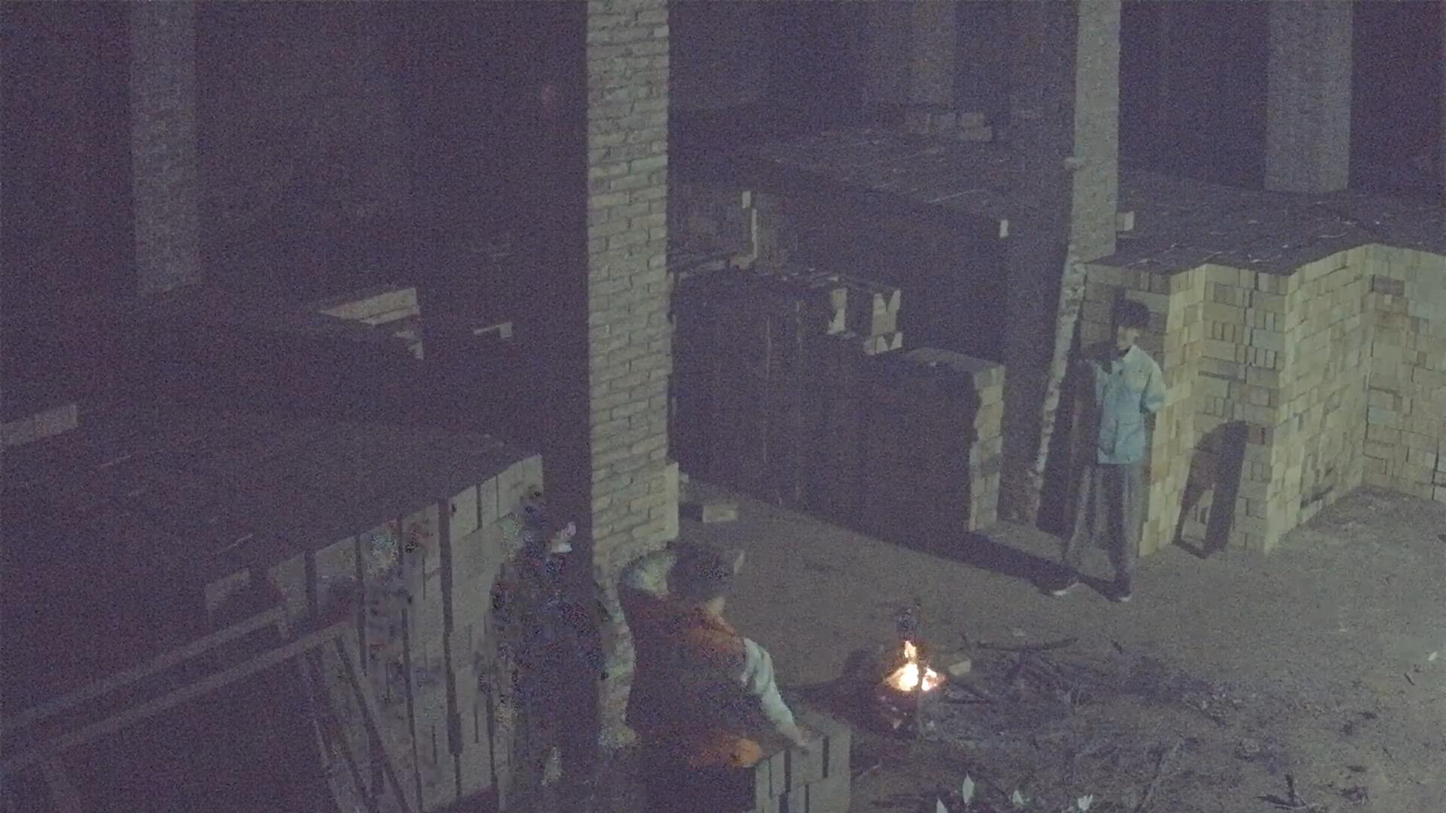fire: (885, 644, 942, 694)
